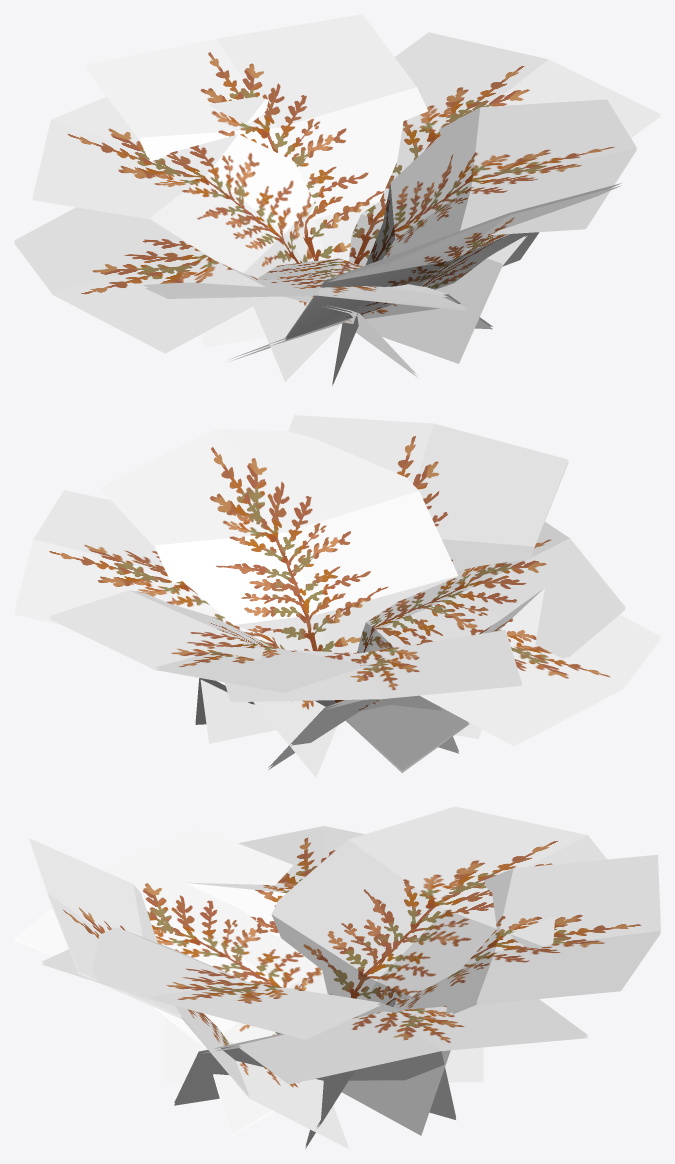
File: Ferns01.fbx
The picture shows the model from 3 angles, top to bottom: view 1: azimuth 30°, elevation 25°; view 2: azimuth 150°, elevation 25°; view 3: azimuth 270°, elevation 25°; orthographic projection. The views are drawn at different scales.
Visible parts, largest first — view 1: Fern01; view 2: Fern01; view 3: Fern01.
Part boxes in pixels (x1,y1,x2,y2): Fern01: (14,14,660,385); Fern01: (14,415,660,777); Fern01: (14,806,660,1148).
Bounding box in the file's own units: 1.73 × 0.5495 × 1.55.
Materials: 1 (1 with a texture image).
